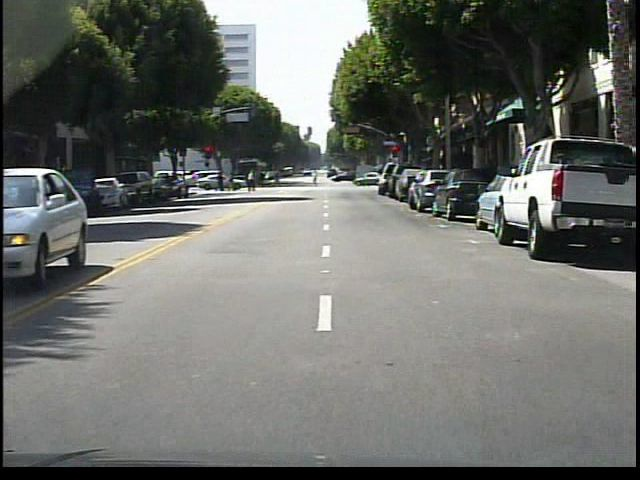person: (244, 166, 264, 195)
